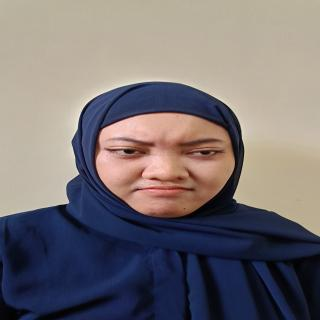Marah: (91, 109, 241, 229)
